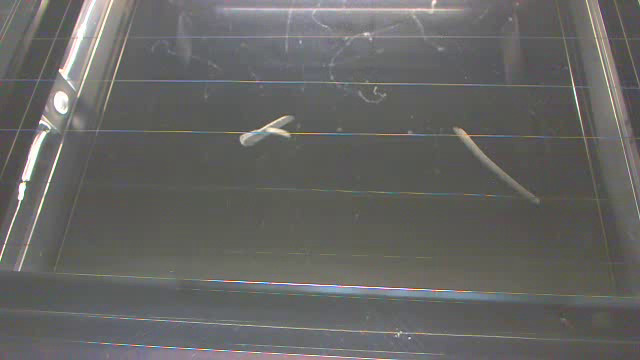alpha: (451, 124, 541, 207), (241, 109, 295, 149), (267, 128, 291, 139)
